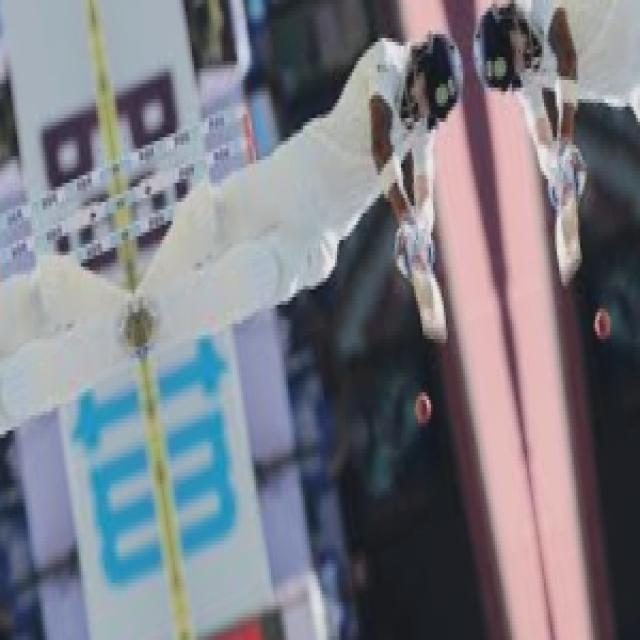toe: (421, 314, 448, 343)
